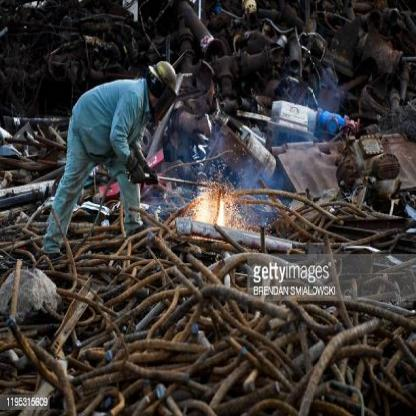rebar: (0, 185, 415, 415)
